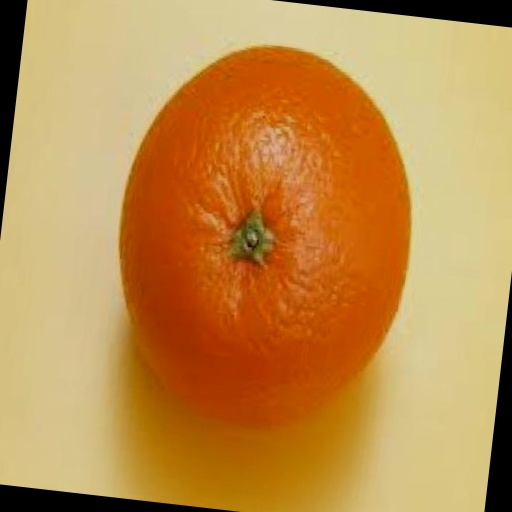fruit: (330, 123, 480, 446)
